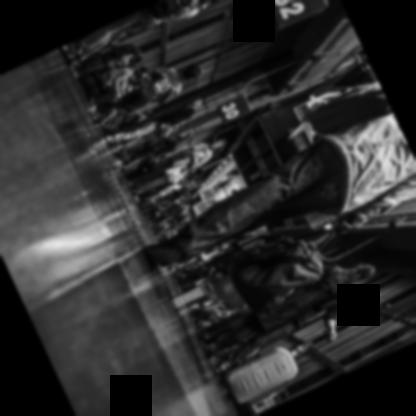backpack: (256, 290, 312, 326), (154, 145, 178, 159), (154, 125, 178, 138)
handbag: (226, 227, 342, 313), (305, 86, 390, 140), (146, 0, 195, 21), (164, 162, 197, 184)
suitcase: (222, 347, 294, 406)
